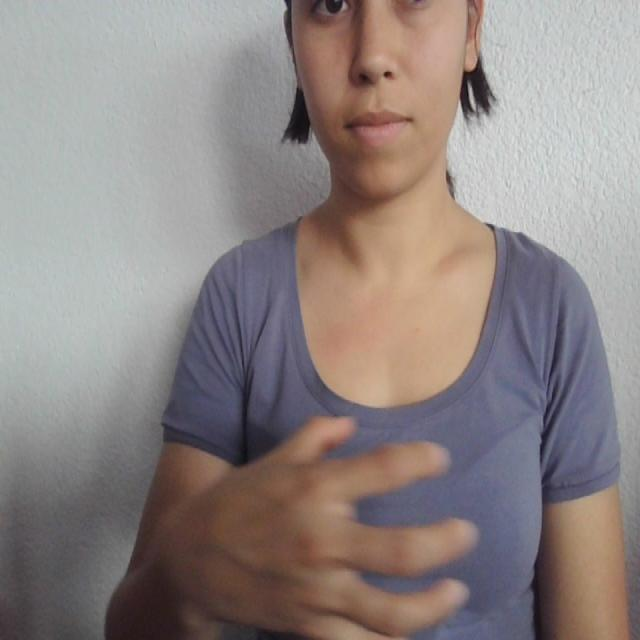Anne: (148, 403, 574, 640)
